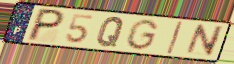5: (63, 12, 95, 44)
G: (124, 18, 161, 51)
I: (165, 20, 185, 55)
N: (183, 24, 226, 58)
P: (24, 7, 68, 42)
Q: (95, 16, 126, 49)
